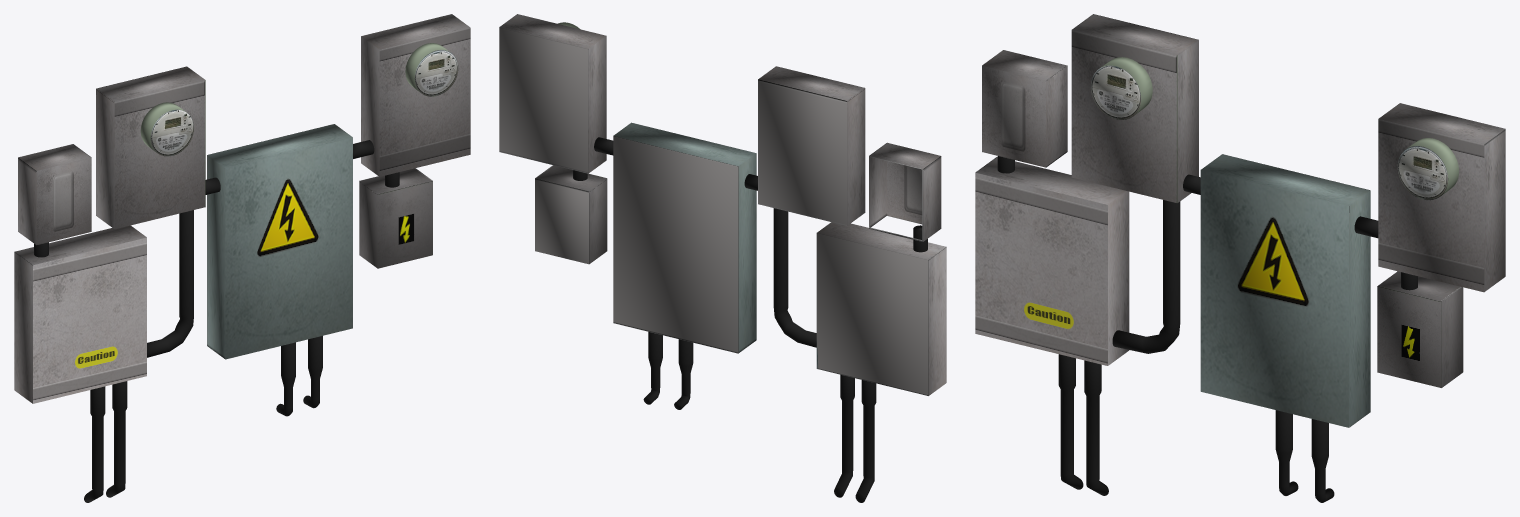
The model's file is electricmeter.fbx.
3 renders of one model, left to right at view 1: azimuth 30°, elevation 25°; view 2: azimuth 150°, elevation 25°; view 3: azimuth 330°, elevation 25°, orthographic. The views are drawn at different scales.
Visible parts, largest first — view 1: ElectricMeterWBoxes; view 2: ElectricMeterWBoxes; view 3: ElectricMeterWBoxes.
Boxes of the visible parts, bbox=[...] form: ElectricMeterWBoxes: bbox=[14, 14, 470, 502]; ElectricMeterWBoxes: bbox=[499, 14, 946, 502]; ElectricMeterWBoxes: bbox=[975, 14, 1505, 502].
Bounding box in the file's own units: 536 × 479 × 61.06.
